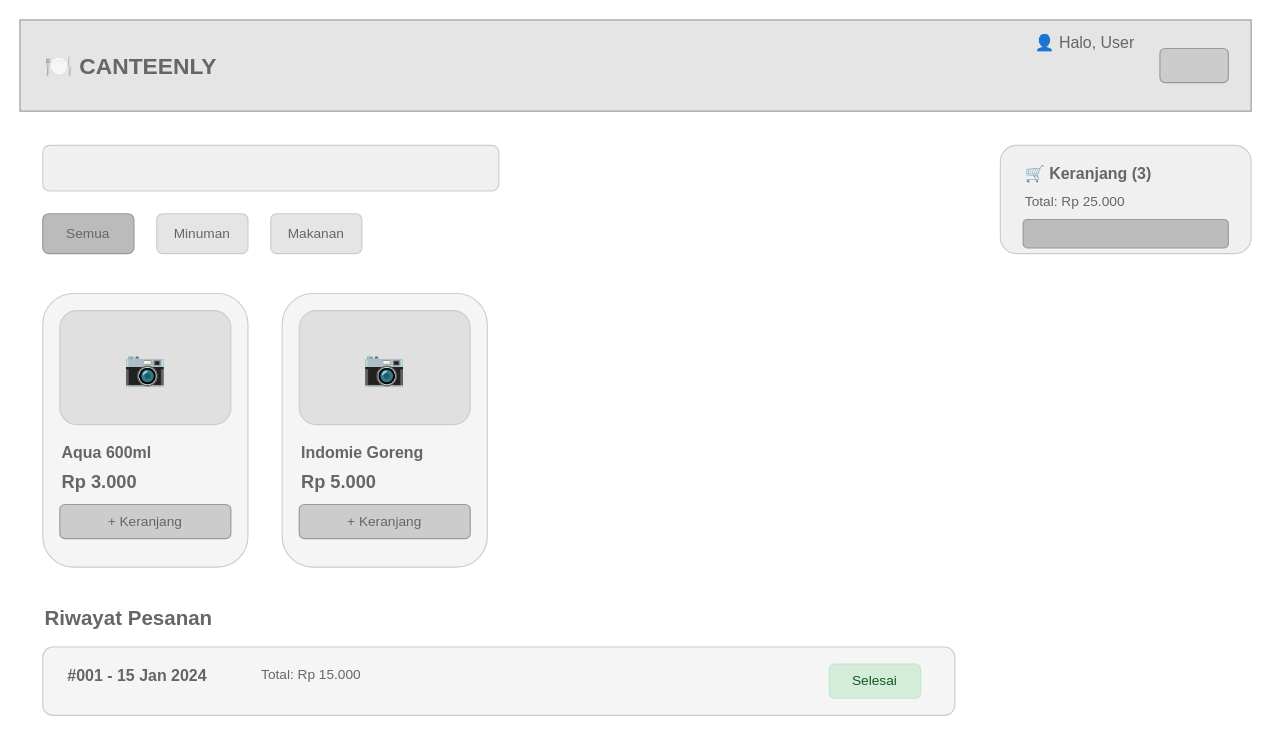
The diagram is 1271 pixels wide and 735 high, and some of its shapes have lost their labels. The shapes that lost their labels are listed below. From the top down, each one's centre as x and y in pixels, then its label:
At [1193,65]: "Keluar".
At [270,167]: "🔍 Cari produk...".
At [1125,233]: "Checkout".
